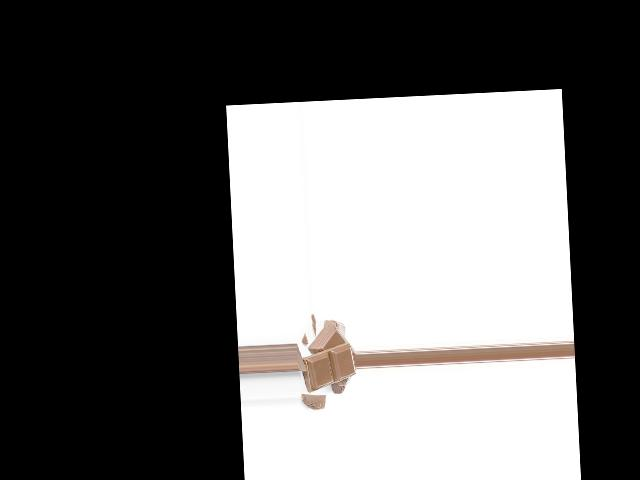chocolate: (302, 342, 354, 390)
